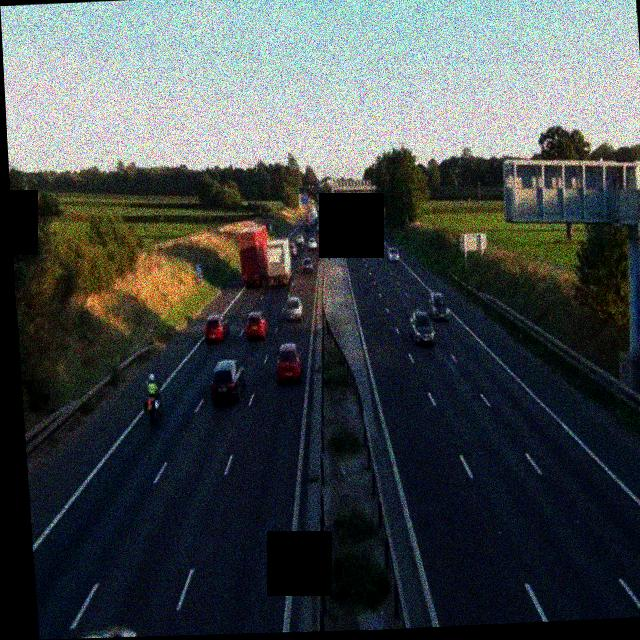car: (208, 357, 247, 405), (275, 343, 304, 383), (63, 626, 136, 639), (408, 310, 435, 344), (142, 375, 163, 418), (203, 313, 227, 342), (426, 291, 449, 321), (244, 310, 266, 339), (285, 296, 303, 321), (300, 256, 313, 273), (386, 245, 399, 261), (291, 242, 301, 257), (307, 237, 317, 249), (342, 223, 350, 238), (357, 230, 367, 242), (375, 233, 384, 245), (342, 216, 348, 228)
truck: (234, 222, 278, 288), (301, 200, 314, 228)
